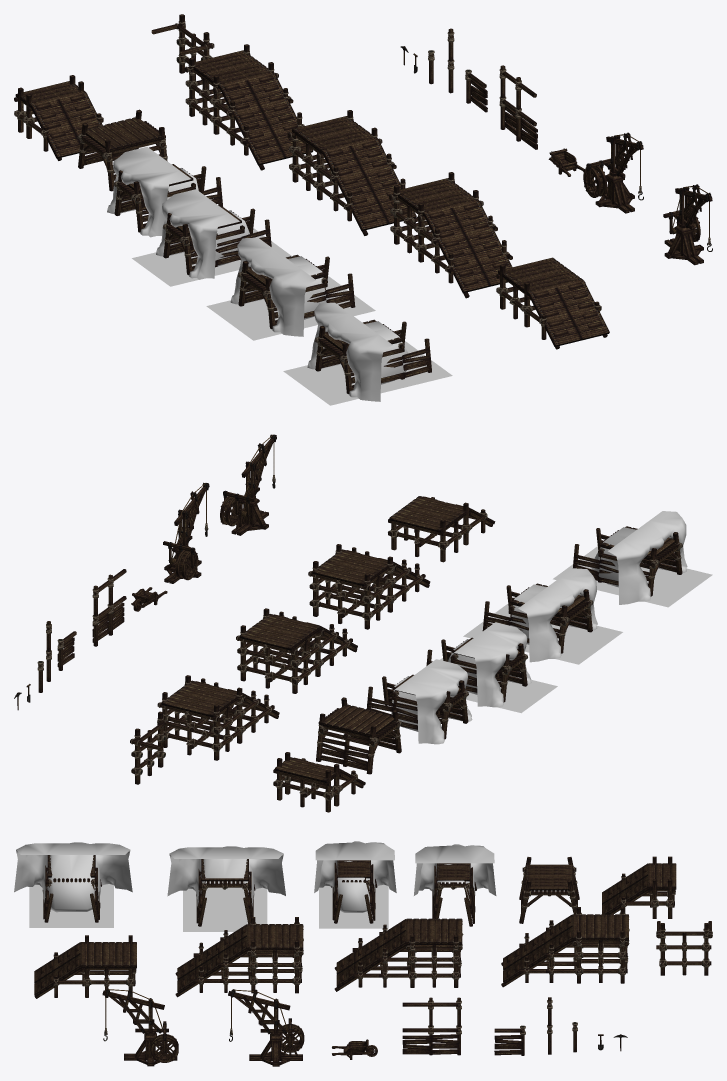
The model's file is EnvObjMD_Mine_A_Cart_A.FBX.
3 renders of one model, top to bottom at view 1: azimuth 30°, elevation 25°; view 2: azimuth 150°, elevation 25°; view 3: azimuth 270°, elevation 25°, orthographic. The views are drawn at different scales.
Visible parts, largest first — view 1: EnvObjMD_Mine_A_Gate_A_4W, EnvObjMD_Mine_A_Gate_A_4W_Through, EnvObjMD_Mine_A_Scaffolding_F, EnvObjMD_Mine_A_Scaffolding_A, EnvObjMD_Mine_A_Scaffolding_D, EnvObjMD_Mine_A_Gate_A_3W, EnvObjMD_Mine_A_Scaffolding_C, EnvObjMD_Mine_A_Gate_A_3W_Through, EnvObjMD_Mine_A_Scaffolding_B, EnvObjMD_Mine_A_Gate_A_4W_WoodFrame, EnvObjMD_Mine_A_Crane_A_R, EnvObjMD_Mine_A_Crane_A_L (+3 smaller); view 2: EnvObjMD_Mine_A_Gate_A_4W, EnvObjMD_Mine_A_Gate_A_4W_Through, EnvObjMD_Mine_A_Gate_A_3W, EnvObjMD_Mine_A_Scaffolding_F, EnvObjMD_Mine_A_Scaffolding_D, EnvObjMD_Mine_A_Scaffolding_A, EnvObjMD_Mine_A_Gate_A_3W_Through, EnvObjMD_Mine_A_Gate_A_4W_WoodFrame, EnvObjMD_Mine_A_Scaffolding_C, EnvObjMD_Mine_A_Scaffolding_B, EnvObjMD_Mine_A_Crane_A_L, EnvObjMD_Mine_A_Crane_A_R (+2 smaller); view 3: EnvObjMD_Mine_A_Gate_A_4W, EnvObjMD_Mine_A_Gate_A_4W_Through, EnvObjMD_Mine_A_Gate_A_3W, EnvObjMD_Mine_A_Scaffolding_A, EnvObjMD_Mine_A_Scaffolding_D, EnvObjMD_Mine_A_Scaffolding_F, EnvObjMD_Mine_A_Gate_A_3W_Through, EnvObjMD_Mine_A_Scaffolding_C, EnvObjMD_Mine_A_Scaffolding_B, EnvObjMD_Mine_A_Crane_A_R, EnvObjMD_Mine_A_Crane_A_L, EnvObjMD_Mine_A_Gate_A_4W_WoodFrame (+4 smaller).
Part boxes in pixels (x1,y1,x2,y2): EnvObjMD_Mine_A_Gate_A_4W: (283,302,452,405); EnvObjMD_Mine_A_Gate_A_4W_Through: (206,237,375,340); EnvObjMD_Mine_A_Scaffolding_F: (389,172,512,298); EnvObjMD_Mine_A_Scaffolding_A: (184,44,313,170); EnvObjMD_Mine_A_Scaffolding_D: (287,110,416,235); EnvObjMD_Mine_A_Gate_A_3W: (132,189,291,286); EnvObjMD_Mine_A_Scaffolding_C: (496,257,609,349); EnvObjMD_Mine_A_Gate_A_3W_Through: (107,146,222,237); EnvObjMD_Mine_A_Scaffolding_B: (14,75,103,160); EnvObjMD_Mine_A_Gate_A_4W_WoodFrame: (77,109,167,191); EnvObjMD_Mine_A_Crane_A_R: (583,132,643,213); EnvObjMD_Mine_A_Crane_A_L: (663,184,712,265); EnvObjMD_Mine_A_Gate_A_4W: (553,511,712,607); EnvObjMD_Mine_A_Gate_A_4W_Through: (463,568,622,664); EnvObjMD_Mine_A_Gate_A_3W: (426,622,557,713); EnvObjMD_Mine_A_Scaffolding_F: (308,544,430,629); EnvObjMD_Mine_A_Scaffolding_D: (236,608,357,693); EnvObjMD_Mine_A_Scaffolding_A: (157,675,279,760); EnvObjMD_Mine_A_Gate_A_3W_Through: (366,659,472,744); EnvObjMD_Mine_A_Gate_A_4W_WoodFrame: (316,697,402,774); EnvObjMD_Mine_A_Scaffolding_C: (388,496,495,562); EnvObjMD_Mine_A_Scaffolding_B: (273,752,365,812); EnvObjMD_Mine_A_Crane_A_L: (220,434,276,535); EnvObjMD_Mine_A_Crane_A_R: (163,482,209,583); EnvObjMD_Mine_A_Gate_A_4W: (14,842,132,927); EnvObjMD_Mine_A_Gate_A_4W_Through: (167,846,285,931); EnvObjMD_Mine_A_Gate_A_3W: (314,841,396,928); EnvObjMD_Mine_A_Scaffolding_A: (501,907,629,987); EnvObjMD_Mine_A_Scaffolding_D: (334,918,463,991); EnvObjMD_Mine_A_Scaffolding_F: (175,917,303,997); EnvObjMD_Mine_A_Gate_A_3W_Through: (414,844,496,926); EnvObjMD_Mine_A_Scaffolding_C: (34,935,136,998); EnvObjMD_Mine_A_Scaffolding_B: (602,856,676,918); EnvObjMD_Mine_A_Crane_A_R: (228,989,304,1066); EnvObjMD_Mine_A_Crane_A_L: (102,988,178,1066); EnvObjMD_Mine_A_Gate_A_4W_WoodFrame: (519,857,579,923).
Bounding box in the file's own units: 3247 × 590 × 4968.
